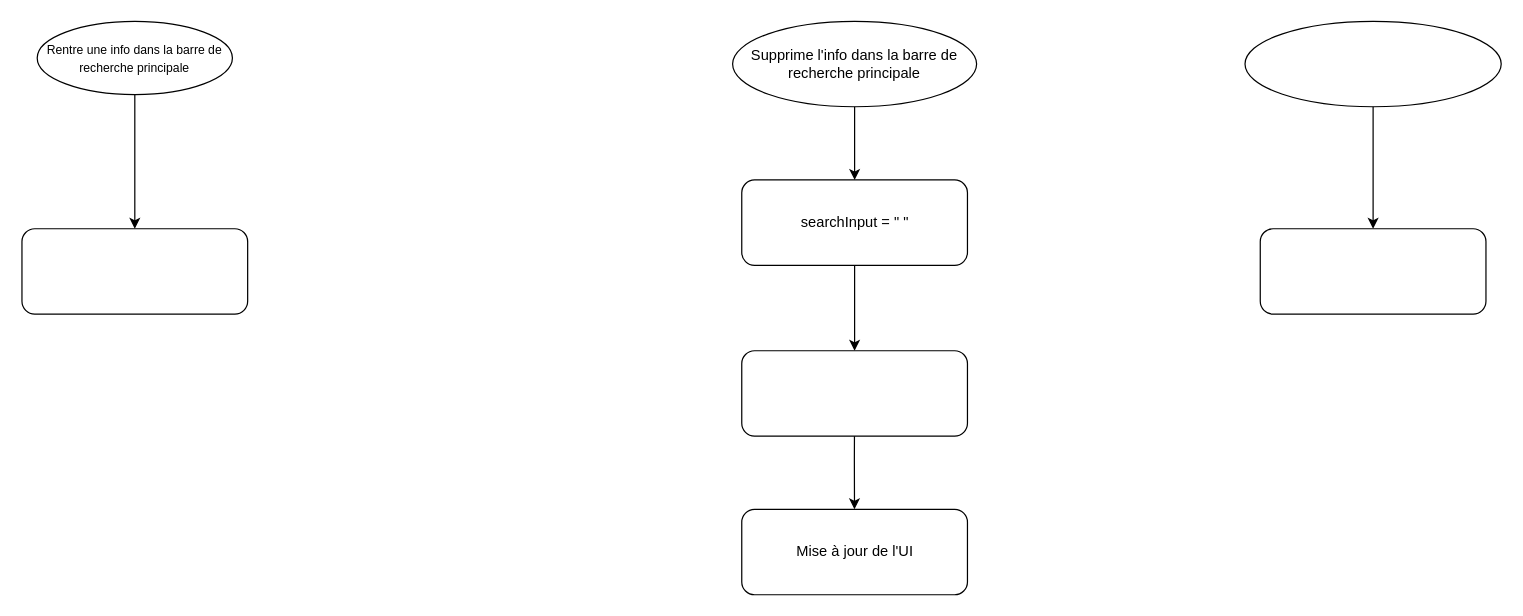
This 1523x616 diagram has some shape labels left out. The shapes that lost their labels are listed below. From the top down, each one's centre as x and y in pixels, then its label:
At pixel 1372 63: "Sélectionne un filtre".
At pixel 854 393: "currentRecipes = recipes".
